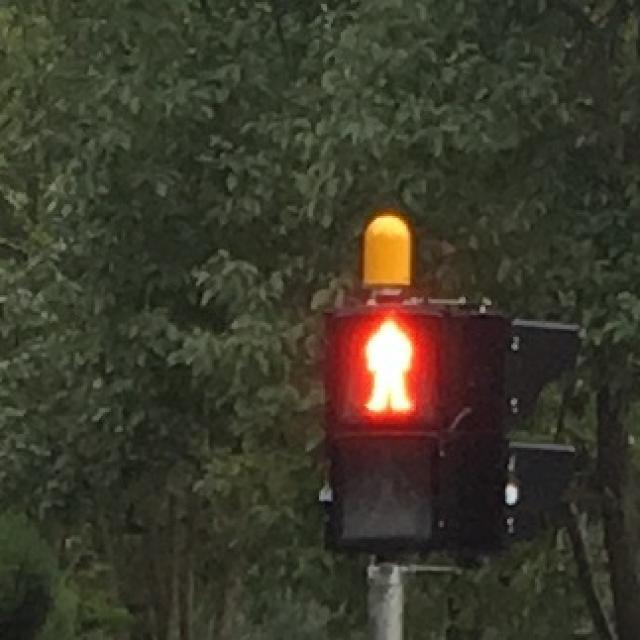red-crossing: (334, 307, 436, 426)
